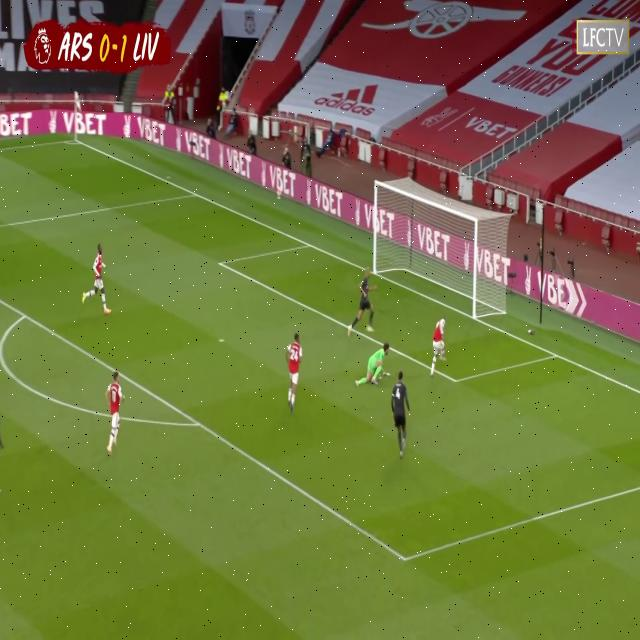GoalKeeper: (358, 344, 390, 388)
TEAM 1: (83, 243, 110, 316), (107, 374, 125, 455), (287, 335, 304, 414), (428, 320, 447, 380)
TEAM 2: (348, 272, 378, 338), (392, 374, 412, 460)
